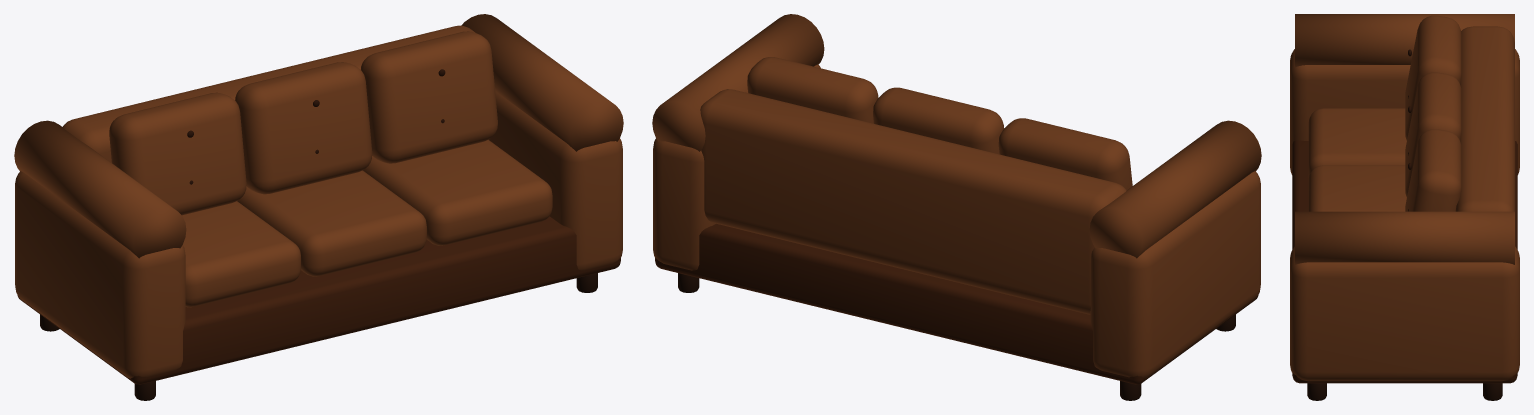
Rendered from frank_sofa.glb.
The picture shows the model from 3 angles, left to right: view 1: azimuth 30°, elevation 25°; view 2: azimuth 150°, elevation 25°; view 3: azimuth 270°, elevation 25°; orthographic projection. The views are drawn at different scales.
Parts seen in each view (by area): view 1: Sofa_SofaLeather, Sofa_SofaLeatherDark, Sofa_SofaFoot; view 2: Sofa_SofaLeather, Sofa_SofaLeatherDark, Sofa_SofaFoot; view 3: Sofa_SofaLeather, Sofa_SofaLeatherDark, Sofa_SofaFoot.
Part boxes in pixels (x1,y1,x2,y2): Sofa_SofaLeather: (14,14,623,378); Sofa_SofaLeatherDark: (17,216,620,384); Sofa_SofaFoot: (40,273,597,400); Sofa_SofaLeather: (652,14,1261,378); Sofa_SofaLeatherDark: (655,223,1258,384); Sofa_SofaFoot: (678,273,1235,400); Sofa_SofaLeather: (1290,14,1519,381); Sofa_SofaLeatherDark: (1292,140,1517,383); Sofa_SofaFoot: (1307,383,1502,400).
Size of the model in its own units: 2.15 by 0.9107 by 0.93.
